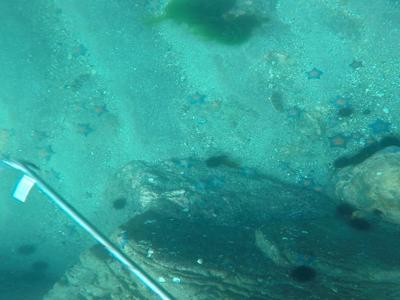urchin: (286, 267, 322, 286), (349, 218, 370, 233), (333, 205, 356, 218)
